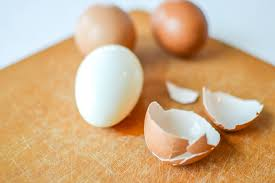eggs: (75, 46, 144, 123)
